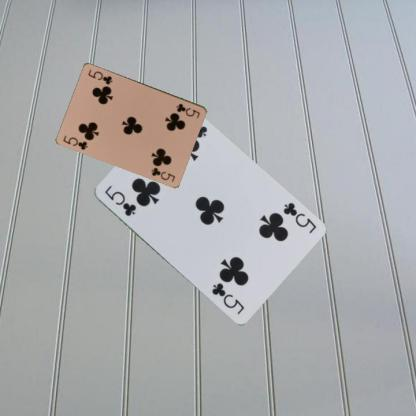5c: (101, 182, 138, 218), (280, 200, 317, 235), (61, 132, 89, 151), (174, 100, 201, 119)
